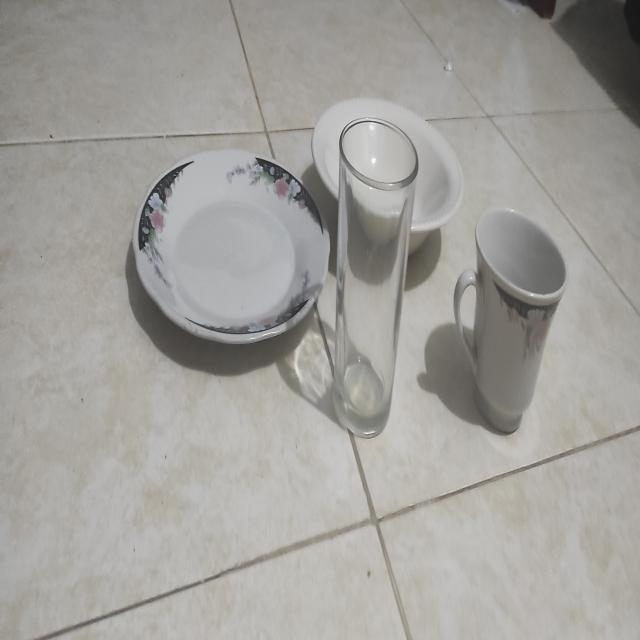non-organic waste: (121, 141, 335, 373), (308, 83, 468, 244)
